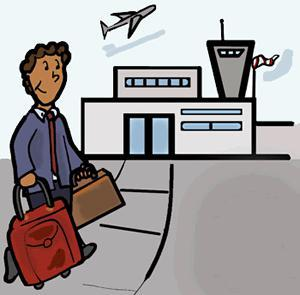aeroplane: (95, 2, 159, 42)
person: (5, 42, 99, 272)
